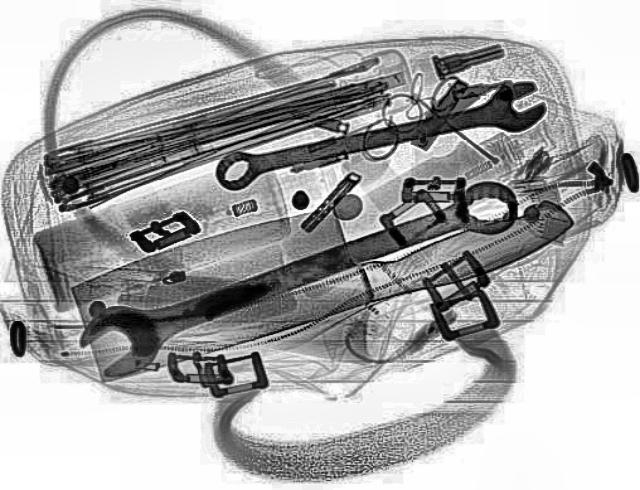Knife: (41, 147, 585, 381)
Wrench: (60, 161, 532, 381), (202, 76, 554, 194)
